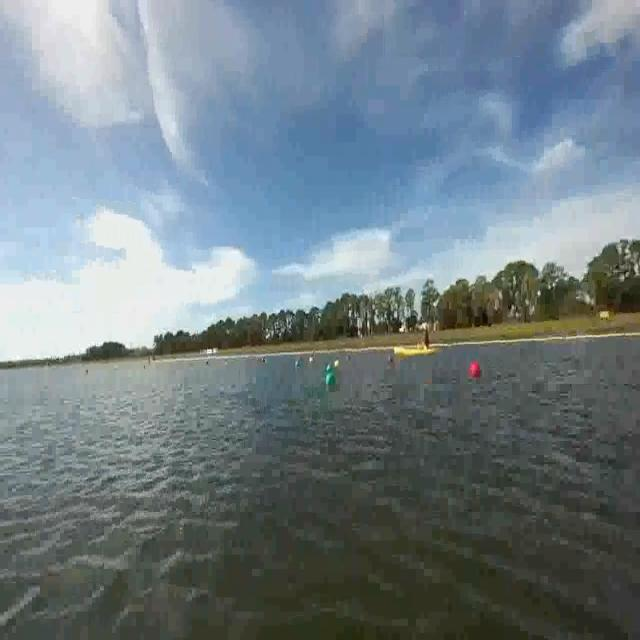green-buoy: (328, 368, 336, 388)
red-buoy: (470, 360, 483, 379)
